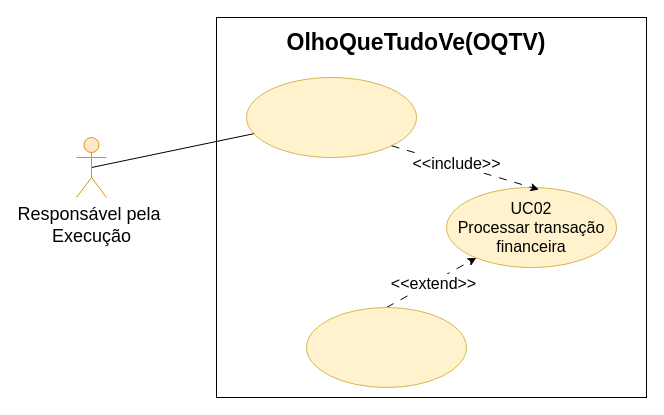
The diagram is 664 pixels wide and 415 high, and some of its shapes have lost their labels. The shapes that lost their labels are listed below. From the top down, each one's box as (x1, y1, x2, y2) in pixels, then its label:
(246, 76, 416, 158): UC01 Executar Cenário Configurado
(306, 306, 466, 388): UC03 Disponibilizar alerta de fraude
